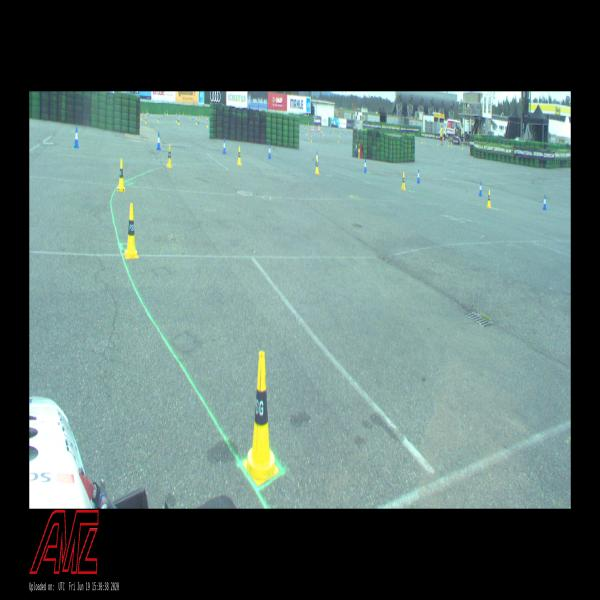blue_cone: (74, 127, 79, 148), (157, 132, 161, 150), (542, 195, 546, 210), (223, 138, 226, 154), (268, 144, 271, 159), (417, 169, 420, 183), (479, 182, 482, 196), (364, 158, 366, 173), (316, 151, 318, 165)
yellow_cone: (243, 351, 279, 486), (125, 204, 138, 258), (116, 158, 126, 192), (167, 144, 172, 168), (238, 146, 242, 165), (402, 172, 406, 190), (487, 190, 491, 208), (315, 157, 319, 174), (145, 117, 147, 124)
